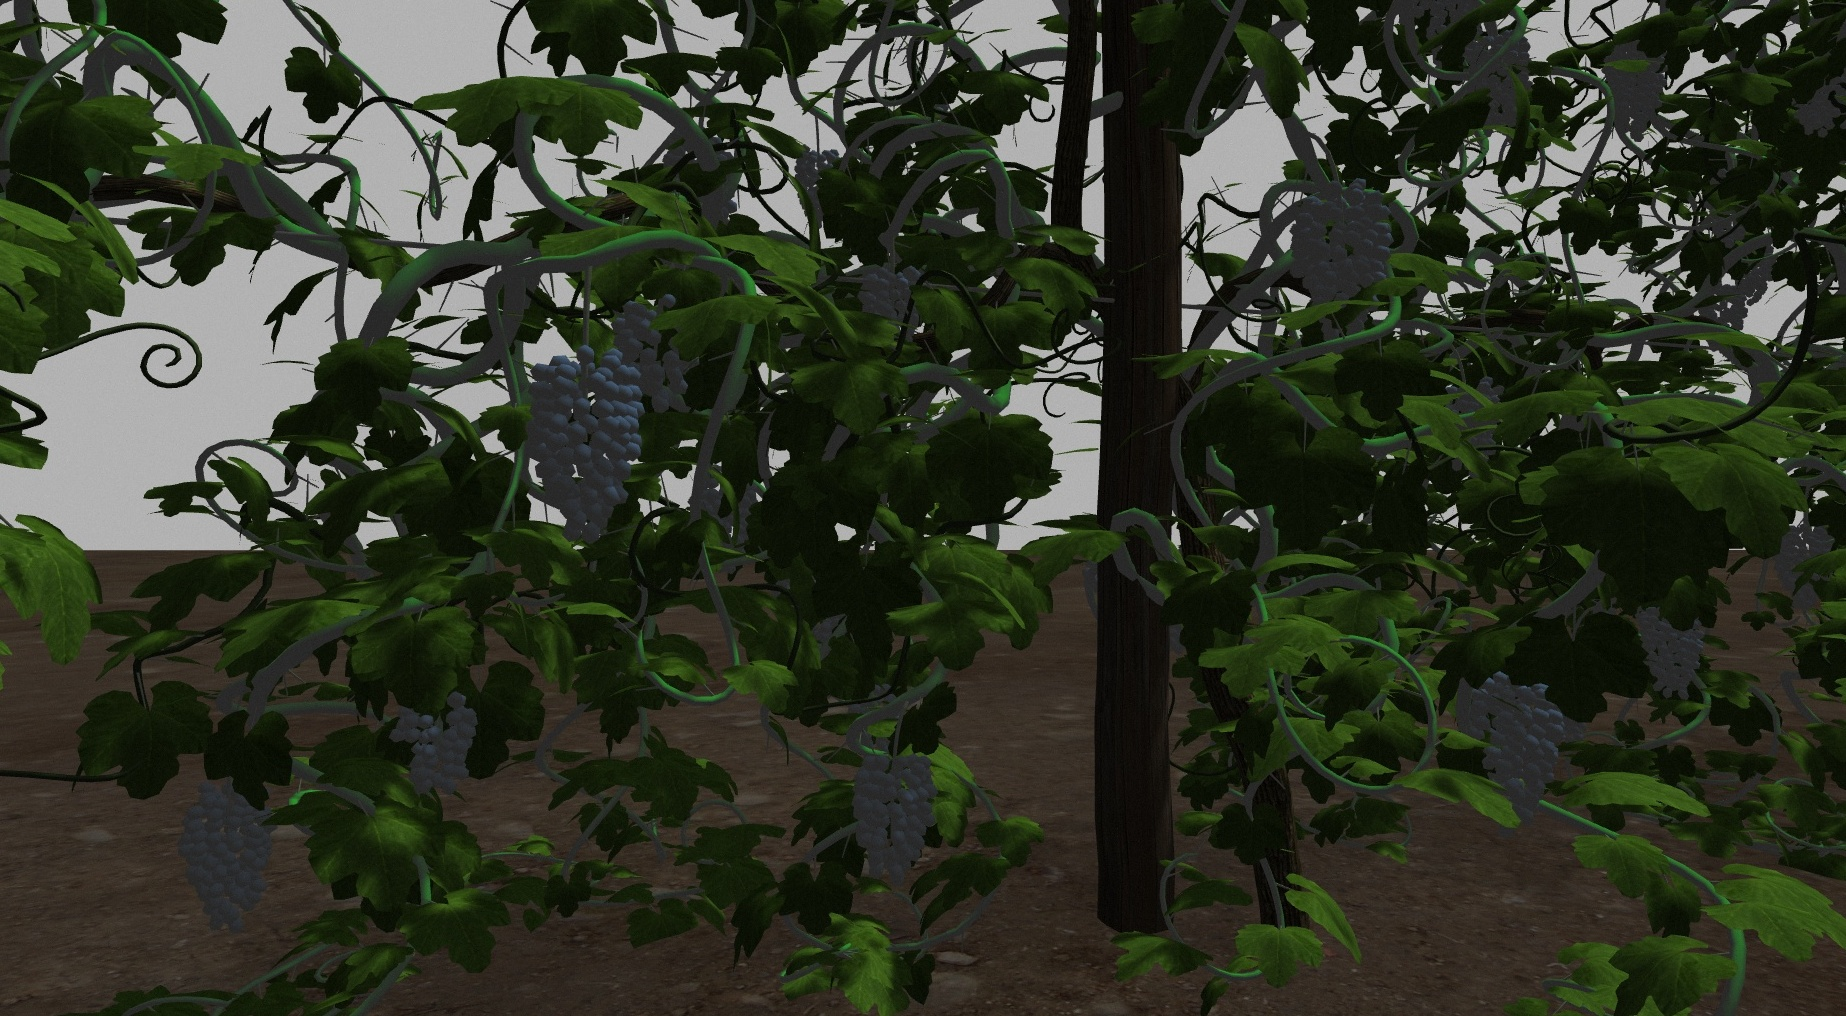grape: (529, 348, 642, 549), (179, 773, 276, 928), (1475, 666, 1570, 825), (1289, 178, 1396, 308), (850, 754, 939, 888), (615, 297, 700, 410), (389, 694, 479, 798), (1632, 596, 1712, 699), (1605, 34, 1670, 143), (1462, 28, 1532, 126), (1775, 521, 1838, 616), (855, 259, 919, 327)
